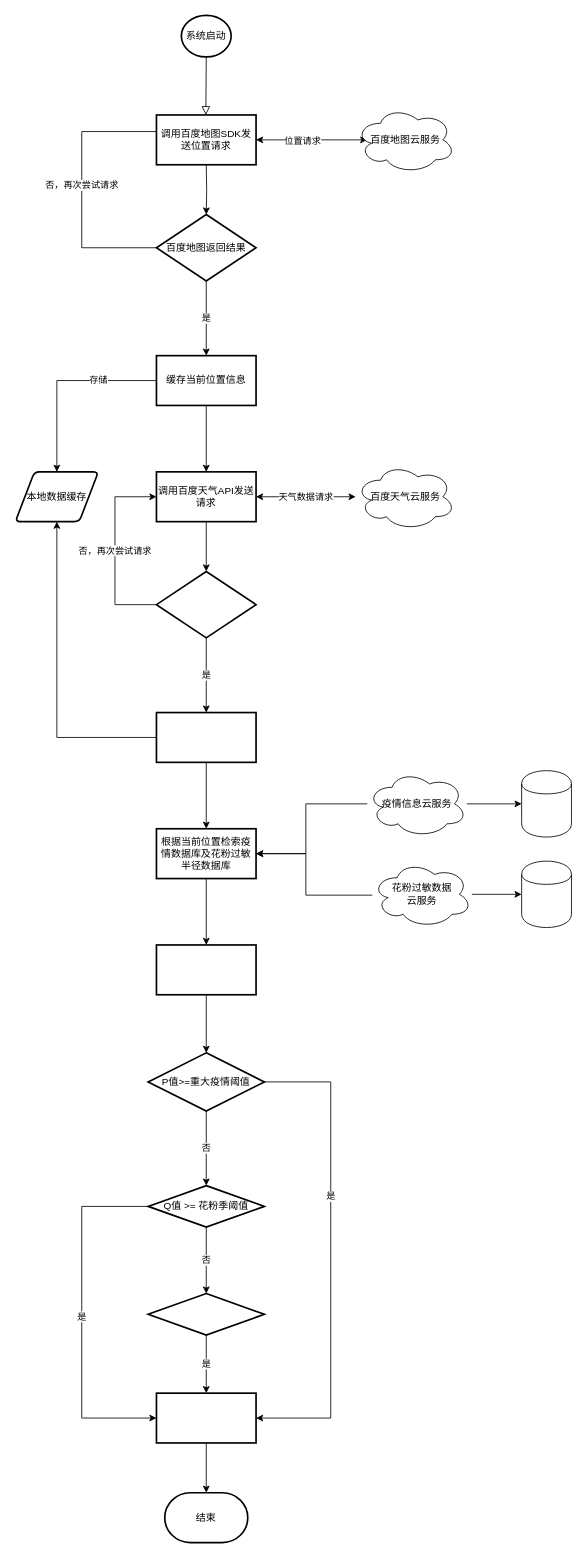
This 586x1557 diagram has some shape labels left out. The shapes that lost their labels are listed below. From the top down, each one's centre as x and y in pixels, then its label:
At [205,604]: "百度天气返回结果".
At [205,737]: "缓存天气数据".
At [546,803]: "疫情数据库".
At [546,894]: "花粉过敏数据库".
At [205,969]: "计算输出疫情数值(P)，花粉过敏数据(Q)".
At [206,1313]: "PM 2.5 >= 150ug/m3".
At [205,1417]: "发送短信提示用户".
